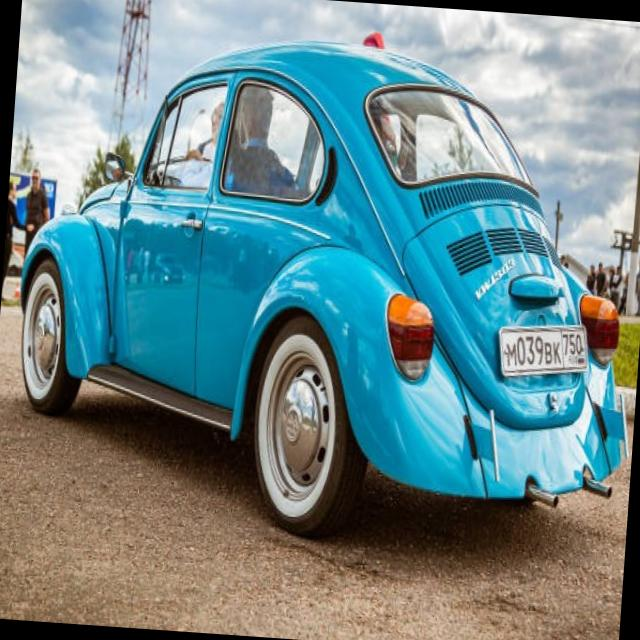car: (3, 20, 640, 528)
